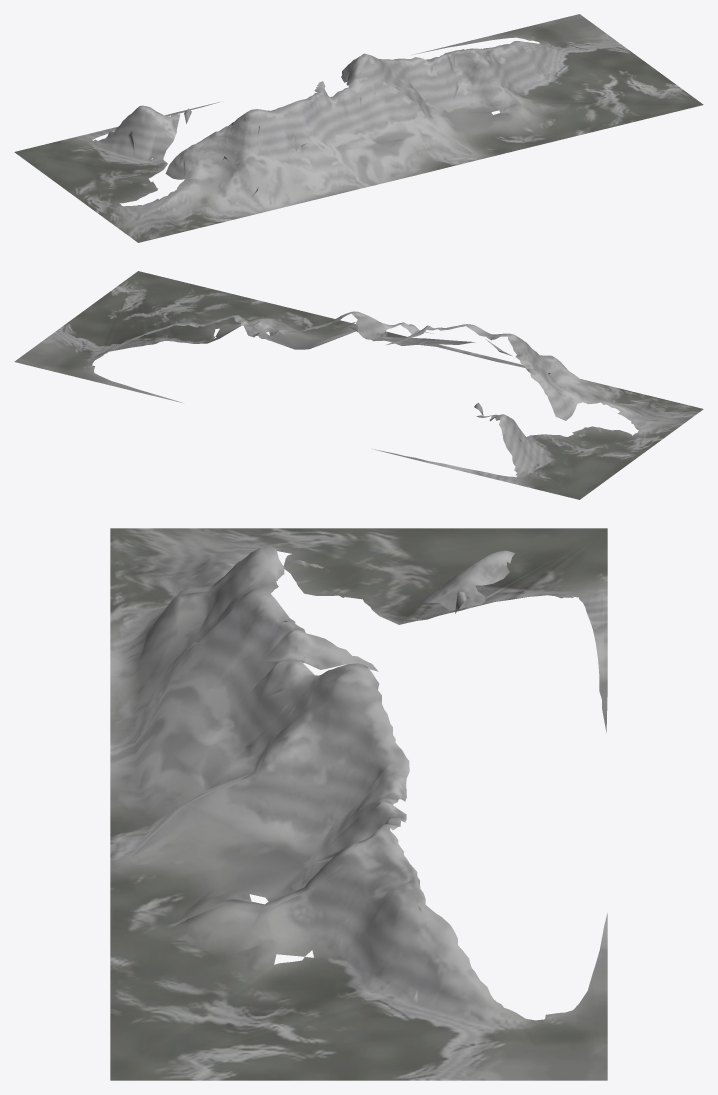
Rendered from mountain-spine-high.glb.
The picture shows the model from 3 angles, top to bottom: view 1: azimuth 30°, elevation 25°; view 2: azimuth 150°, elevation 25°; view 3: azimuth 270°, elevation 25°; orthographic projection. The views are drawn at different scales.
Parts seen in each view (by area): view 1: mountain-spine-high; view 2: mountain-spine-high; view 3: mountain-spine-high.
Boxes of the visible parts, x1=… form: mountain-spine-high: x1=14, y1=14, x2=703, y2=242; mountain-spine-high: x1=14, y1=271, x2=703, y2=499; mountain-spine-high: x1=110, y1=528, x2=607, y2=1080.
Bounding box in the file's own units: 2 × 0.2452 × 0.7609.
Materials: 1 (1 with a texture image).
